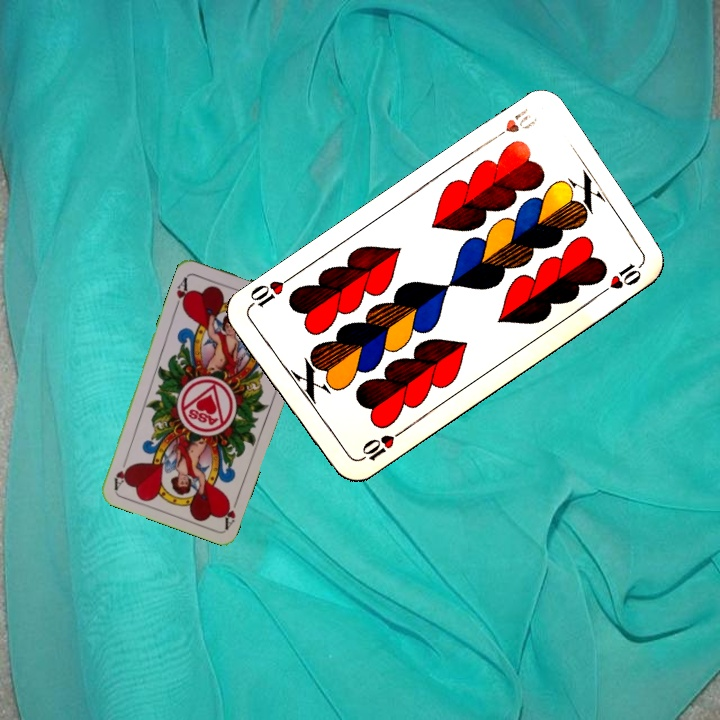H10: (486, 103, 540, 145), (353, 426, 406, 465)
HA: (218, 491, 242, 531), (171, 272, 193, 313)
